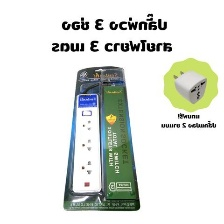book: (61, 62, 142, 213)
three_eye_plug: (67, 90, 104, 197), (169, 68, 212, 105)
